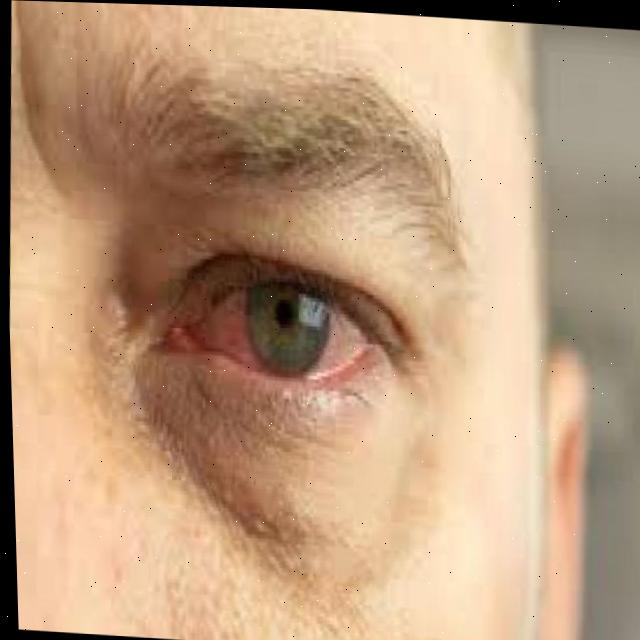Rosacea: (165, 272, 387, 401)
